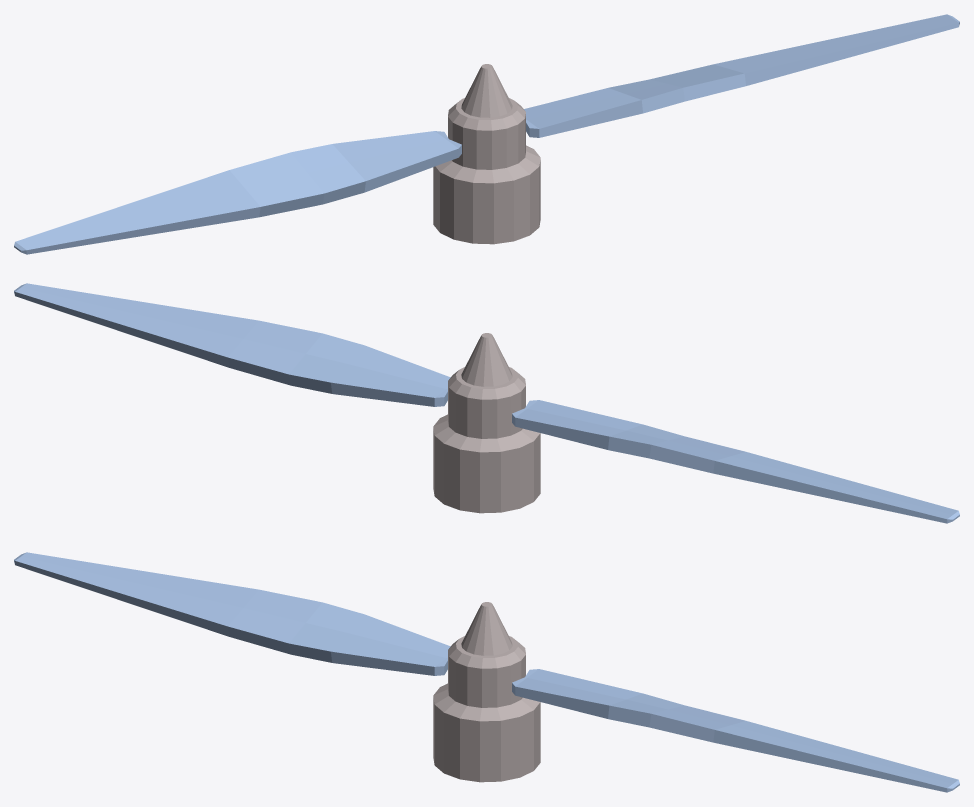
3 renders of one model, top to bottom at view 1: azimuth 30°, elevation 25°; view 2: azimuth 150°, elevation 25°; view 3: azimuth 330°, elevation 25°, orthographic.
Visible parts, largest first — view 1: 风扇; view 2: 风扇; view 3: 风扇.
Boxes of the visible parts, bbox=[...] form: 风扇: bbox=[14, 14, 959, 254]; 风扇: bbox=[14, 283, 959, 523]; 风扇: bbox=[14, 552, 959, 792].
Bounding box in the file's own units: 987 × 156 × 98.87.
